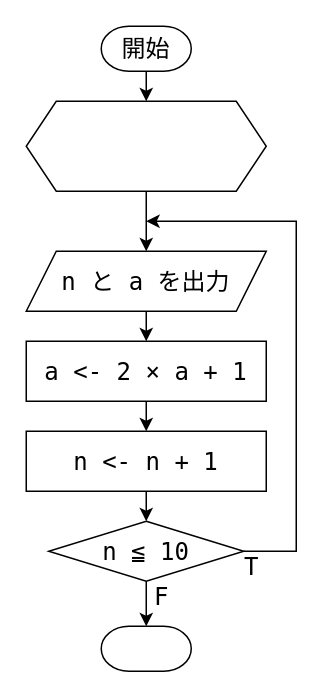
The diagram is 335 pixels wide and 698 high, and some of its shapes have lost their labels. The box of each missing label's shape, as (x1, y1, x2, y2) in pixels:
整数型の変数: n <- 1 a <- 1: (25, 100, 266, 191)
終了: (100, 625, 191, 671)
